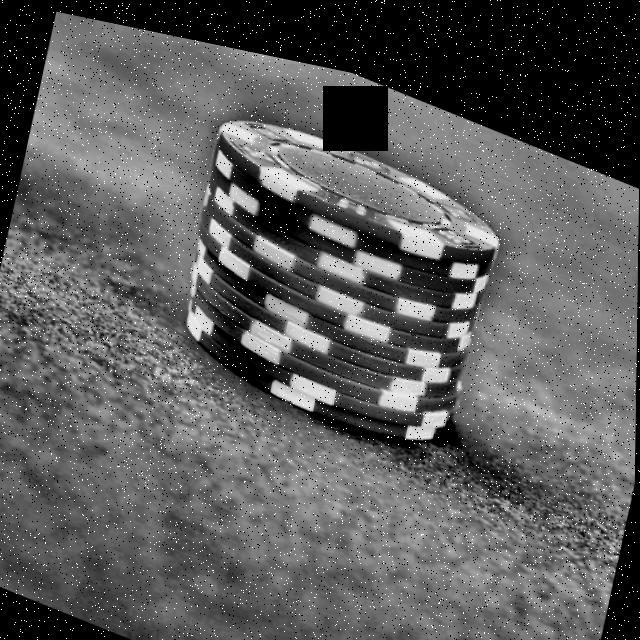Chip: (136, 57, 536, 482)
